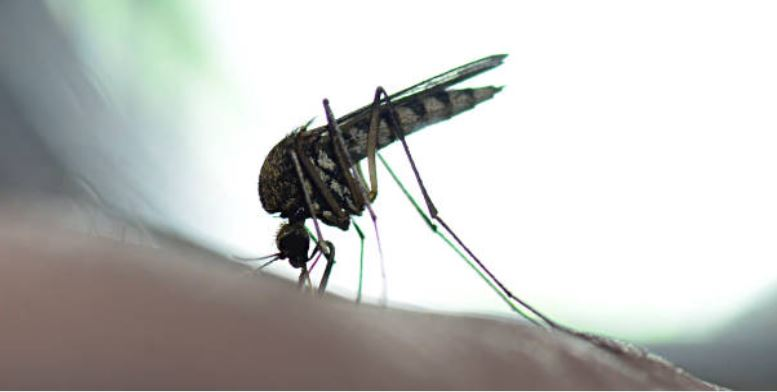dengue_mosquito: (234, 53, 568, 333)
